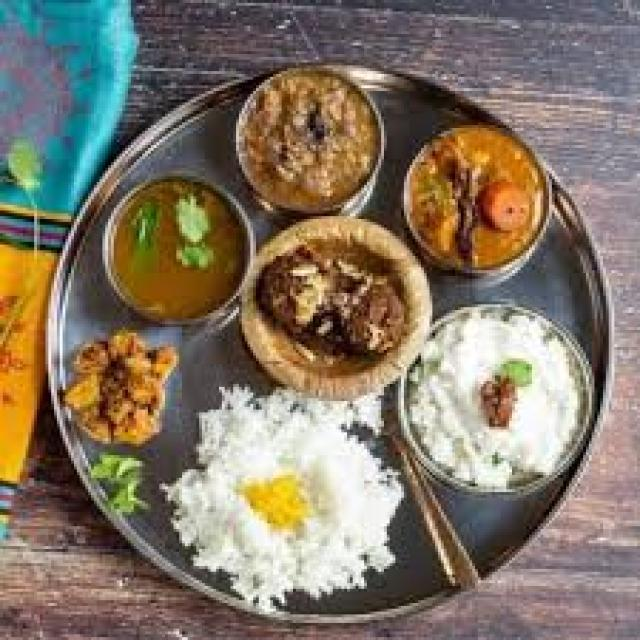curd: (413, 298, 602, 487)
dal: (230, 60, 390, 220)
pickle: (72, 337, 172, 450)
rice: (172, 382, 402, 601)
sambar-rasam: (98, 146, 246, 317)
sweet: (244, 221, 429, 401)
veg: (411, 127, 545, 269)
